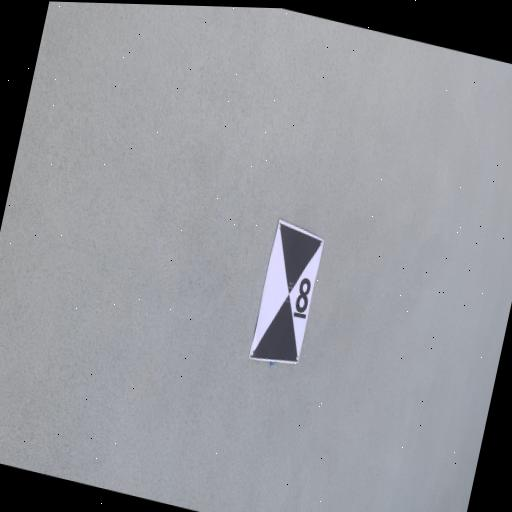target8: (249, 219, 324, 362)
